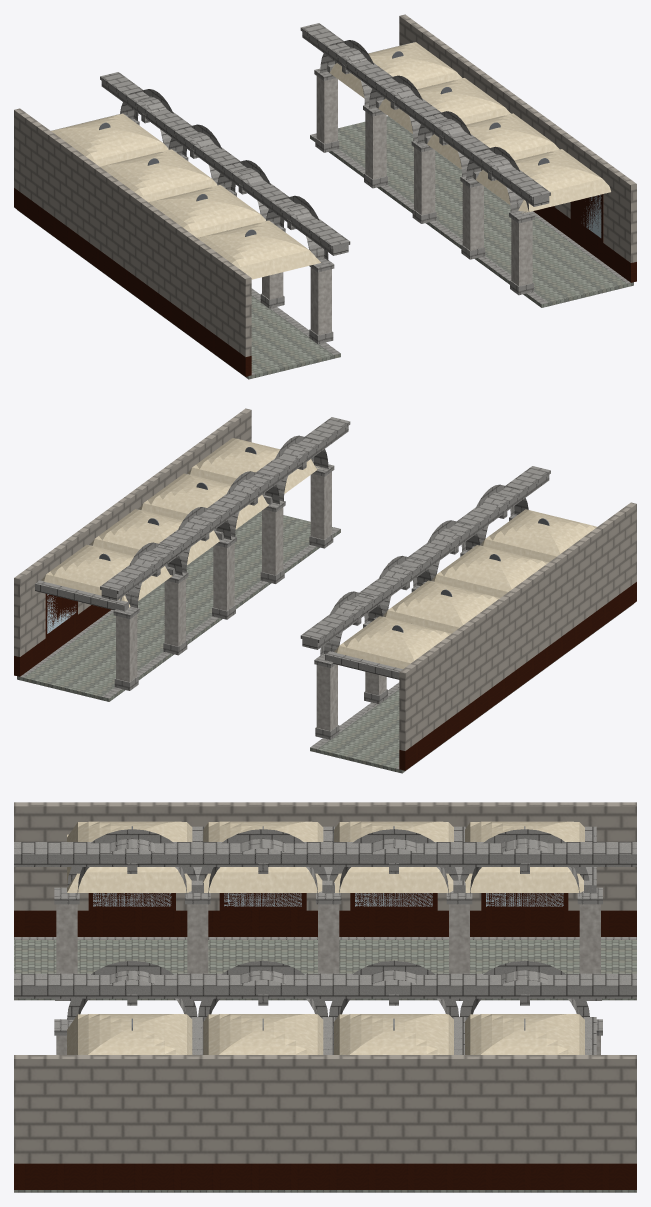
Rendered from turin_portico_module.glb.
The picture shows the model from 3 angles, top to bottom: view 1: azimuth 30°, elevation 25°; view 2: azimuth 150°, elevation 25°; view 3: azimuth 270°, elevation 25°; orthographic projection. The views are drawn at different scales.
Visible parts, largest first — view 1: ShopfrontRustico, GroinVaultCeilings, PorticoFloors, Architraves, PillarShafts, ShopfrontWood, Arches, GraniteBorders, PillarBases, PillarCapitals, ShopfrontGlass; view 2: ShopfrontRustico, GroinVaultCeilings, PorticoFloors, Architraves, PillarShafts, ShopfrontWood, Arches, GraniteBorders, PillarBases, PillarCapitals; view 3: ShopfrontRustico, GroinVaultCeilings, ShopfrontWood, Architraves, PorticoFloors, Arches, PillarShafts, ShopfrontGlass, PillarCapitals, GraniteBorders, Keystones.
Part boxes in pixels (bbox=[...]): ShopfrontRustico: bbox=[14, 14, 636, 356]; GroinVaultCeilings: bbox=[51, 42, 610, 279]; PorticoFloors: bbox=[17, 116, 633, 379]; Architraves: bbox=[51, 23, 560, 255]; PillarShafts: bbox=[262, 76, 532, 335]; ShopfrontWood: bbox=[14, 188, 636, 376]; Arches: bbox=[120, 40, 529, 260]; GraniteBorders: bbox=[251, 133, 630, 375]; PillarBases: bbox=[260, 138, 533, 344]; PillarCapitals: bbox=[131, 68, 534, 272]; ShopfrontGlass: bbox=[581, 195, 601, 237]; ShopfrontRustico: bbox=[14, 408, 636, 750]; GroinVaultCeilings: bbox=[41, 438, 596, 668]; PorticoFloors: bbox=[17, 511, 633, 773]; Architraves: bbox=[35, 417, 550, 679]; PillarShafts: bbox=[116, 472, 386, 730]; ShopfrontWood: bbox=[14, 582, 636, 770]; Arches: bbox=[119, 435, 528, 656]; GraniteBorders: bbox=[20, 527, 399, 769]; PillarBases: bbox=[114, 533, 387, 739]; PillarCapitals: bbox=[113, 464, 517, 667]; ShopfrontRustico: bbox=[14, 802, 636, 1163]; GroinVaultCeilings: bbox=[67, 821, 584, 1054]; ShopfrontWood: bbox=[14, 893, 636, 1189]; Architraves: bbox=[14, 826, 636, 1054]; PorticoFloors: bbox=[14, 940, 636, 1192]; Arches: bbox=[67, 829, 589, 1019]; PillarShafts: bbox=[56, 904, 600, 1054]; ShopfrontGlass: bbox=[93, 893, 563, 906]; PillarCapitals: bbox=[54, 887, 602, 1035]; GraniteBorders: bbox=[14, 937, 636, 939]; Keystones: bbox=[127, 863, 529, 1005].
Bounding box in the file's own units: 19.5 × 5.9 × 20.
Materials: 8 (6 with a texture image).
